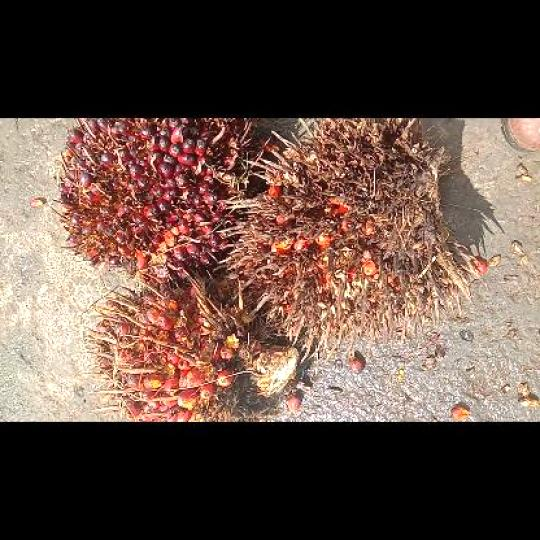masak: (50, 118, 251, 284), (80, 270, 298, 421)
terlalu masak: (216, 118, 482, 362)
